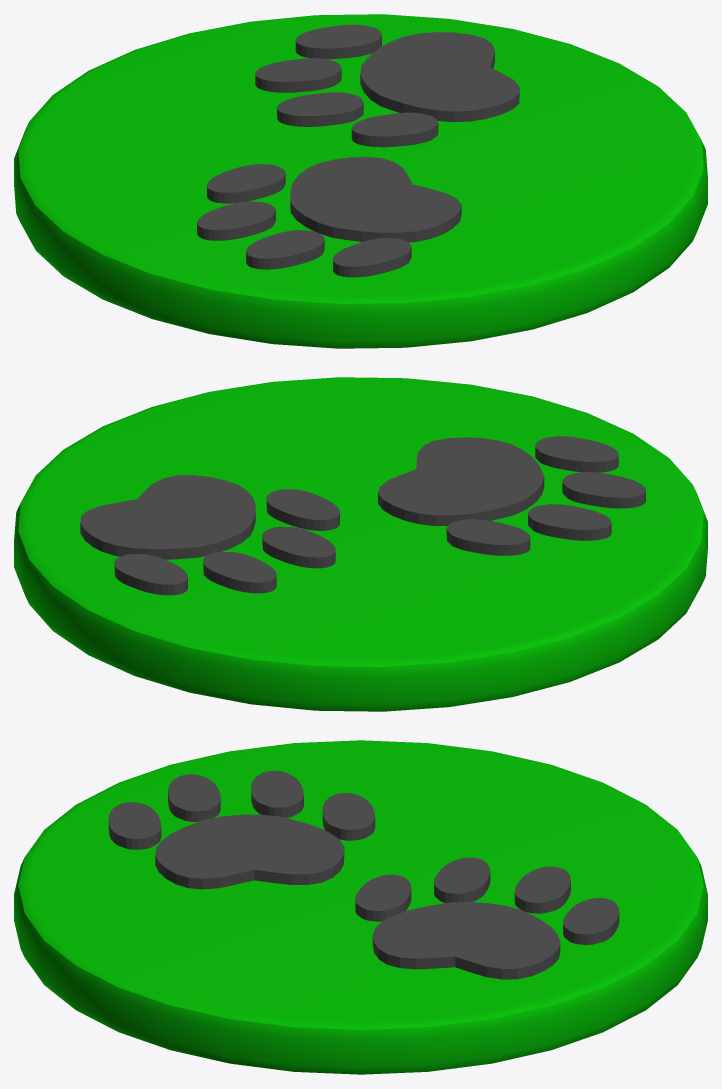
File: Paw_Plane.fbx
3 views of the same model, one above another, from view 1: azimuth 30°, elevation 25°; view 2: azimuth 150°, elevation 25°; view 3: azimuth 270°, elevation 25° (orthographic).
Parts seen in each view (by area): view 1: Paw_Plane; view 2: Paw_Plane; view 3: Paw_Plane.
Part boxes in pixels (x1=…): Paw_Plane: x1=14, y1=14, x2=707, y2=348; Paw_Plane: x1=14, y1=377, x2=707, y2=711; Paw_Plane: x1=14, y1=740, x2=707, y2=1074.
Size of the model in its own units: 698 by 69.9 by 698.
